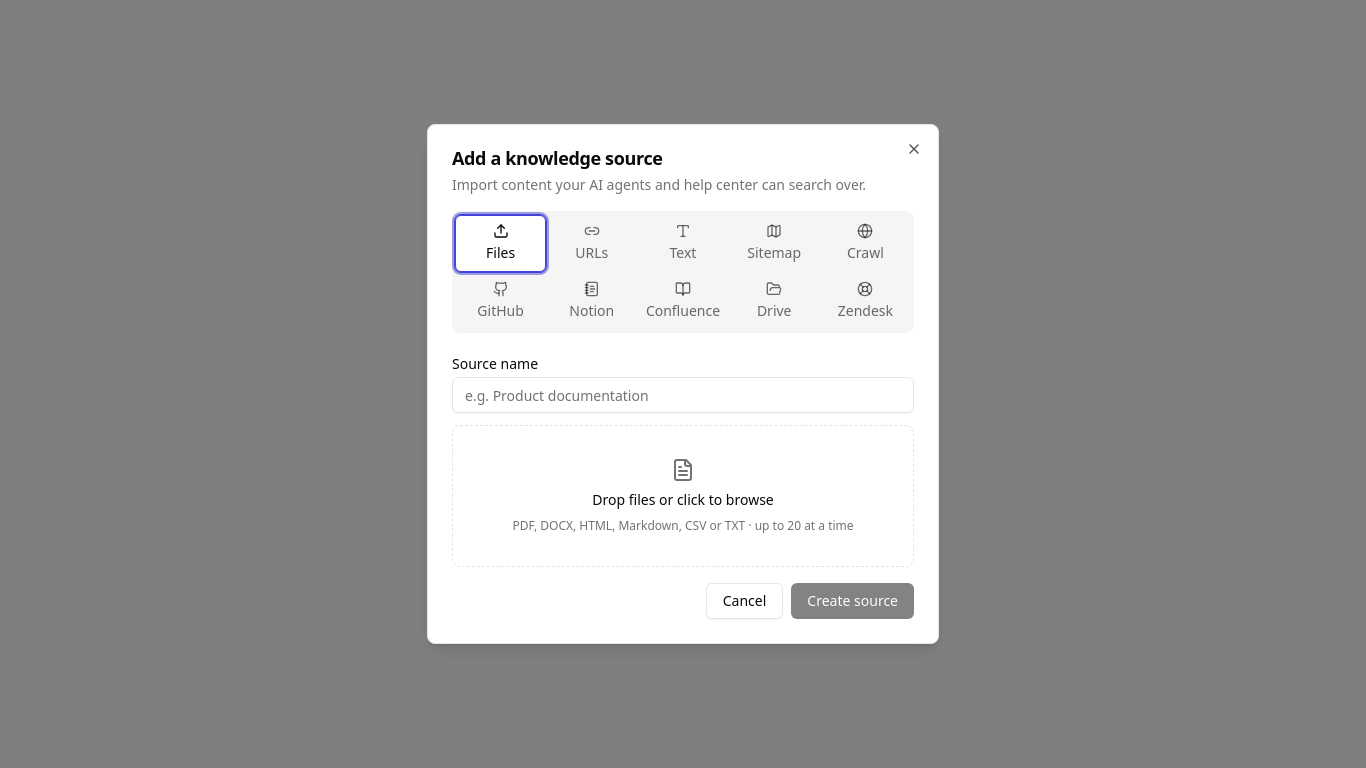
Test: AddSourceDialog › shows validation errors from an ApiError response inline
Click the tab "Sitemap". click: click(774, 243)
box: [729,214,820,272]
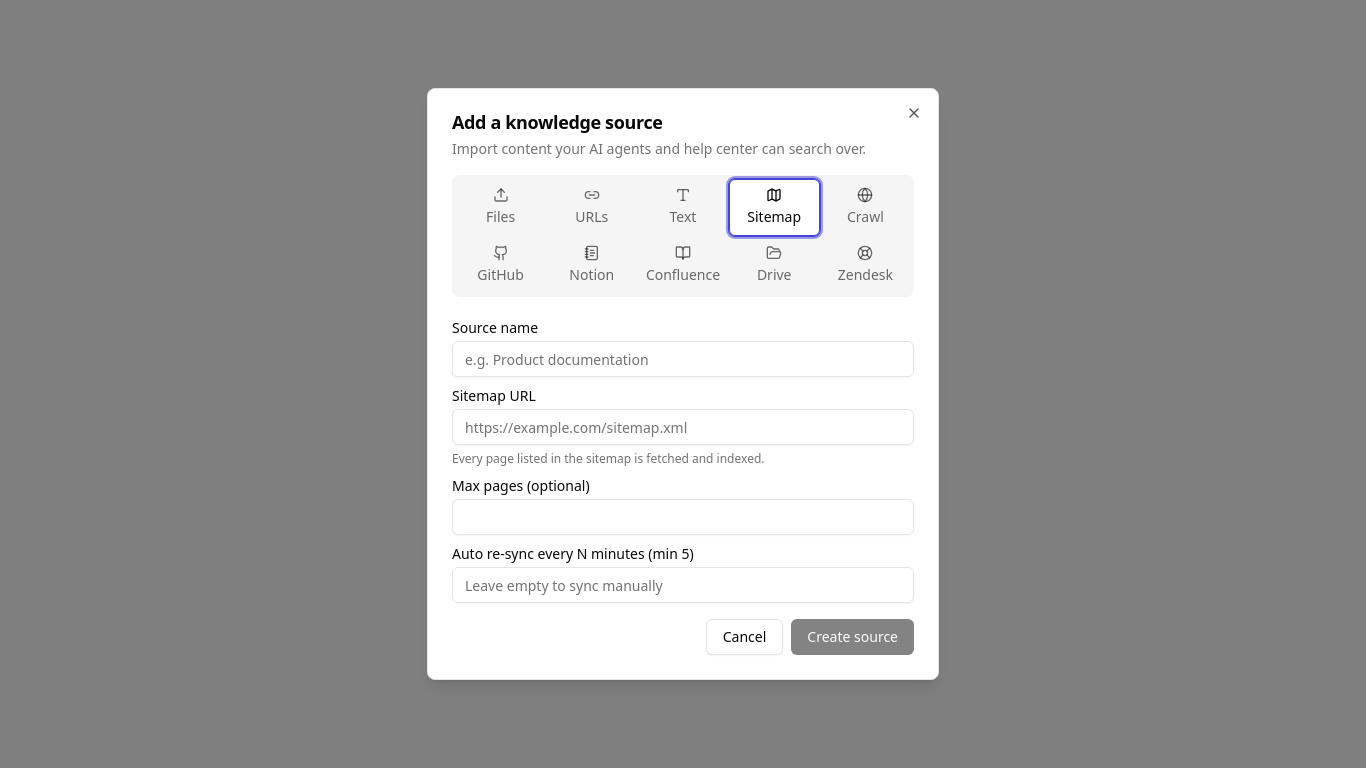
Type "not-a-url" into the field labelled "Sitemap URL". click: (683, 427)
box: [452,409,914,445]
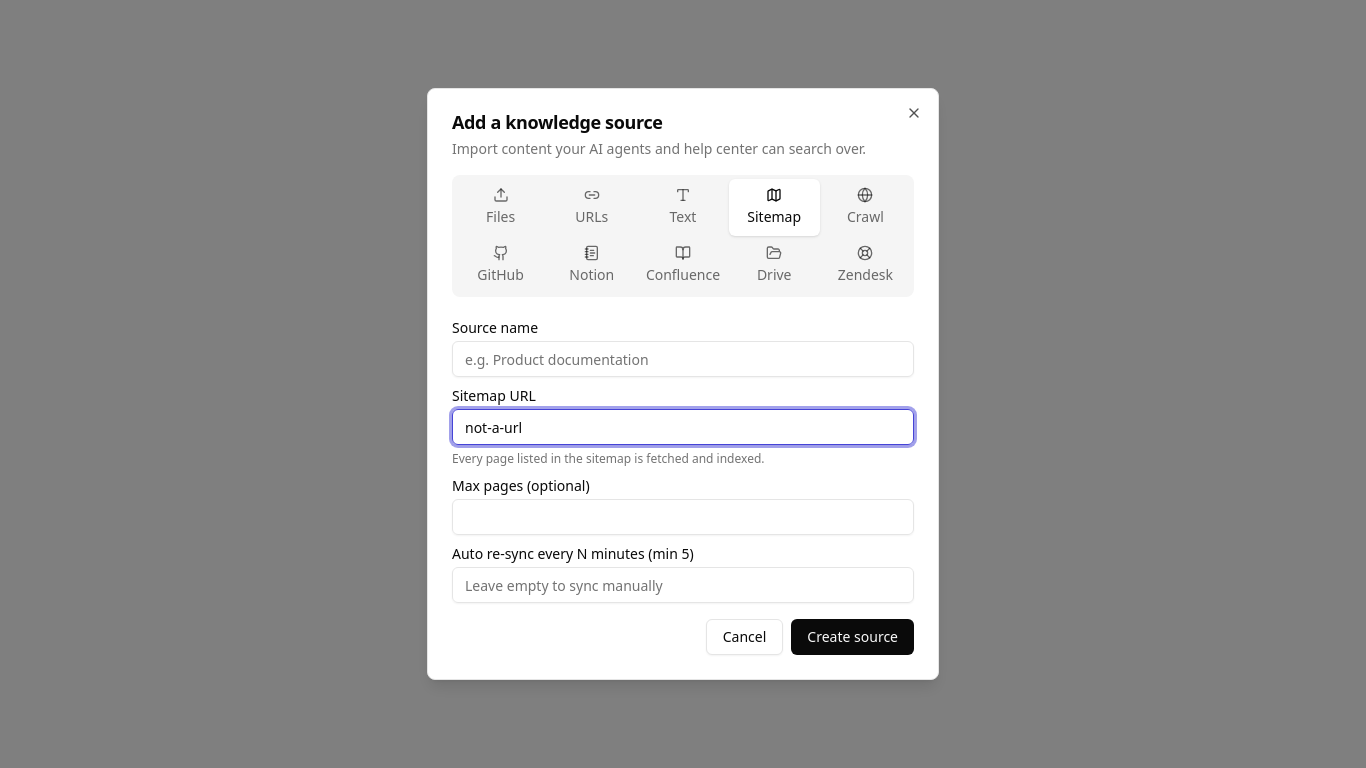
Click the button "Create source". click: click(853, 637)
box: [791,619,914,655]
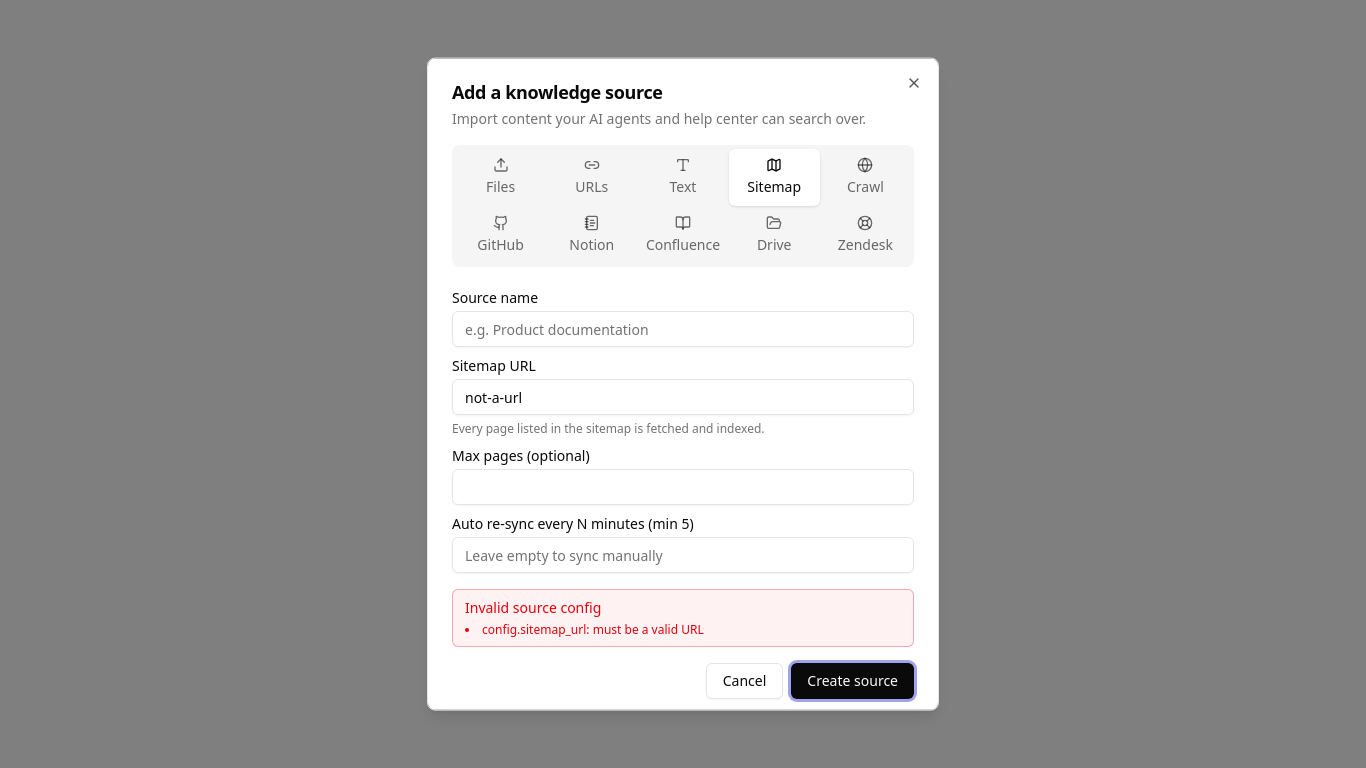
Result: the text "Invalid source config" is shown at [465,598,601,617]
Result: the list item "config.sitemap_url: must be a valid URL" is shown at [482,621,704,638]
